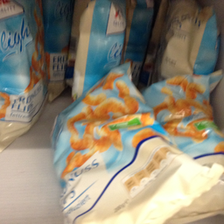chips: (51, 65, 213, 224), (1, 2, 44, 153), (72, 3, 125, 102)
